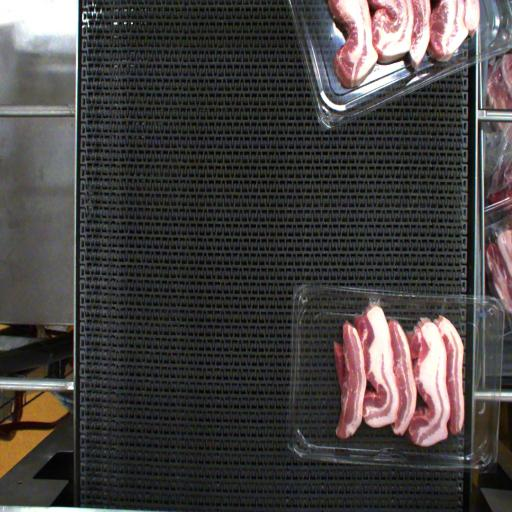packaging-error: (357, 283, 387, 312)
